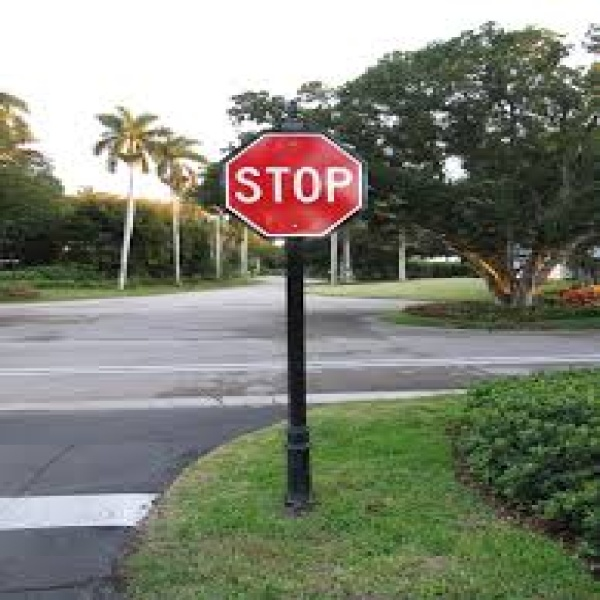stop: (222, 128, 367, 238)
